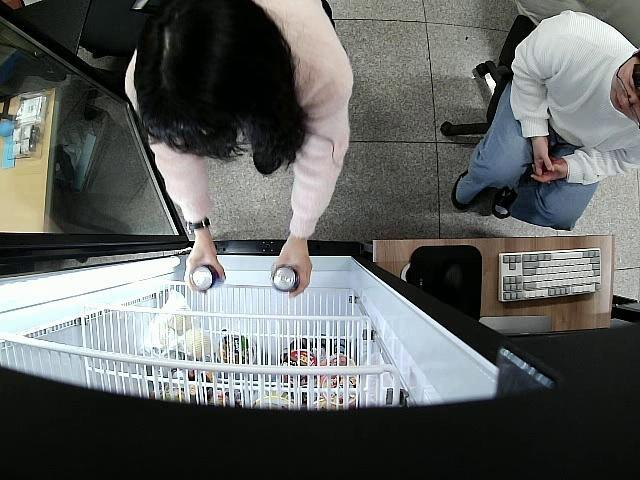14_welchsGrape: (191, 265, 225, 294), (270, 265, 300, 295)
